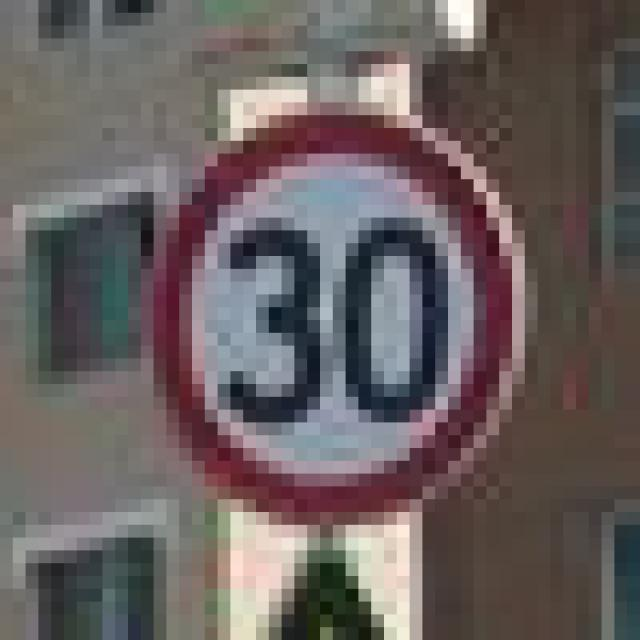SPEED_LIMIT_30: (128, 77, 512, 525)
